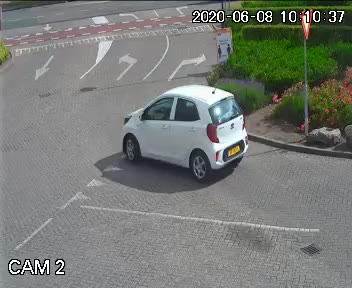car: (104, 78, 259, 194)
